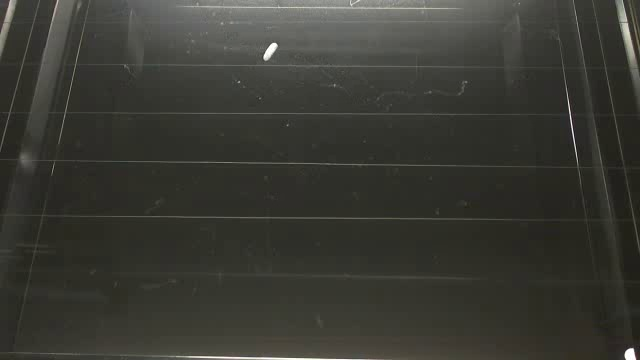Alfa: (260, 40, 280, 62)
